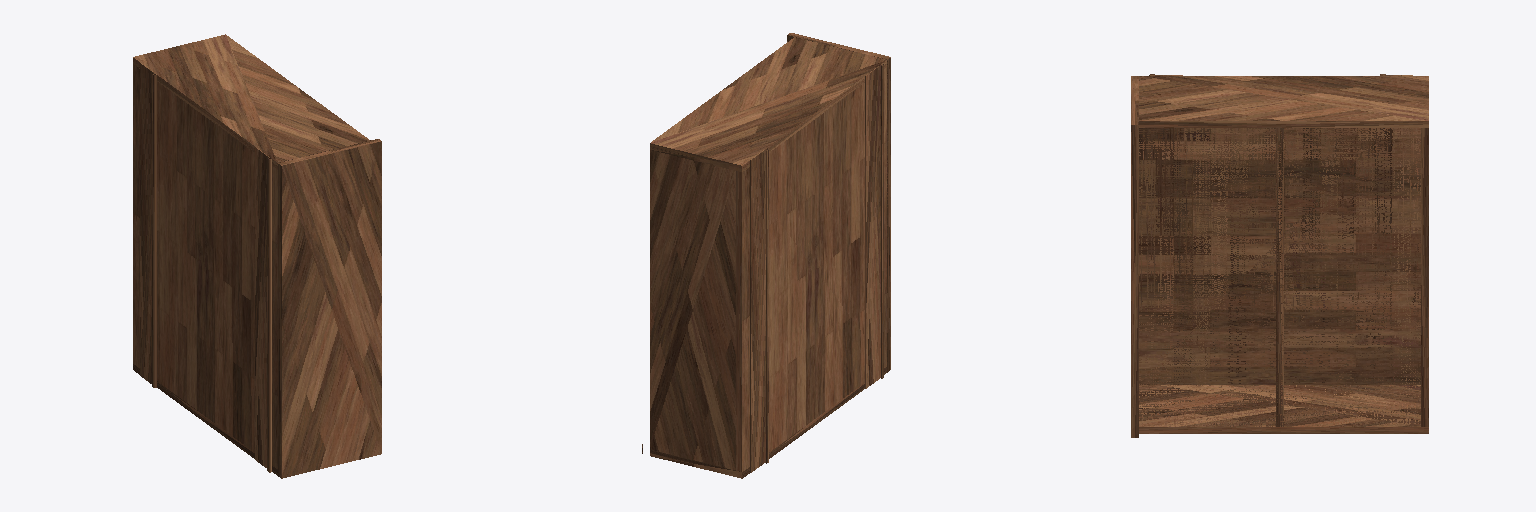
3 renders of one model, left to right at view 1: azimuth 30°, elevation 25°; view 2: azimuth 150°, elevation 25°; view 3: azimuth 270°, elevation 25°, orthographic.
Size of the model in its own units: 0.3457 by 1 by 0.8611.
1 materials, 1 textured.